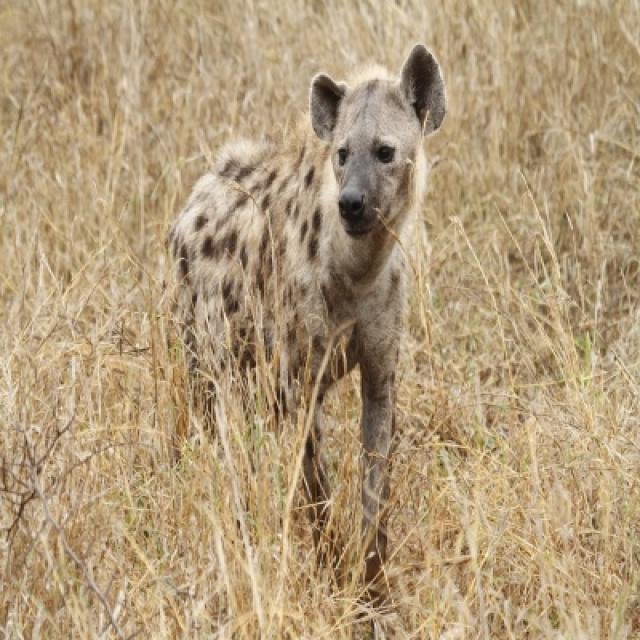hyena: (170, 45, 445, 582)
